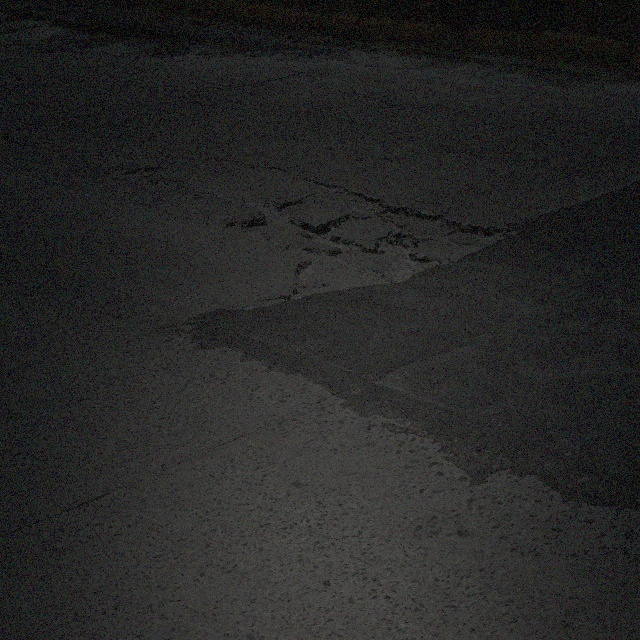pothole: (104, 160, 184, 199), (240, 190, 308, 233), (288, 213, 354, 255), (326, 181, 394, 221), (369, 223, 420, 264), (293, 246, 346, 284), (390, 199, 445, 227), (452, 217, 510, 243)
